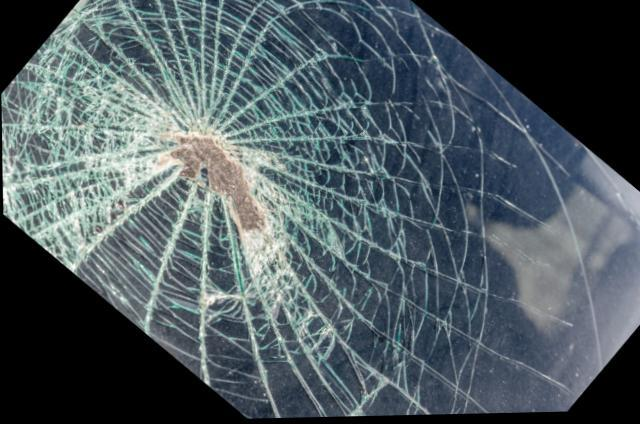glass shatter: (1, 0, 640, 420)
